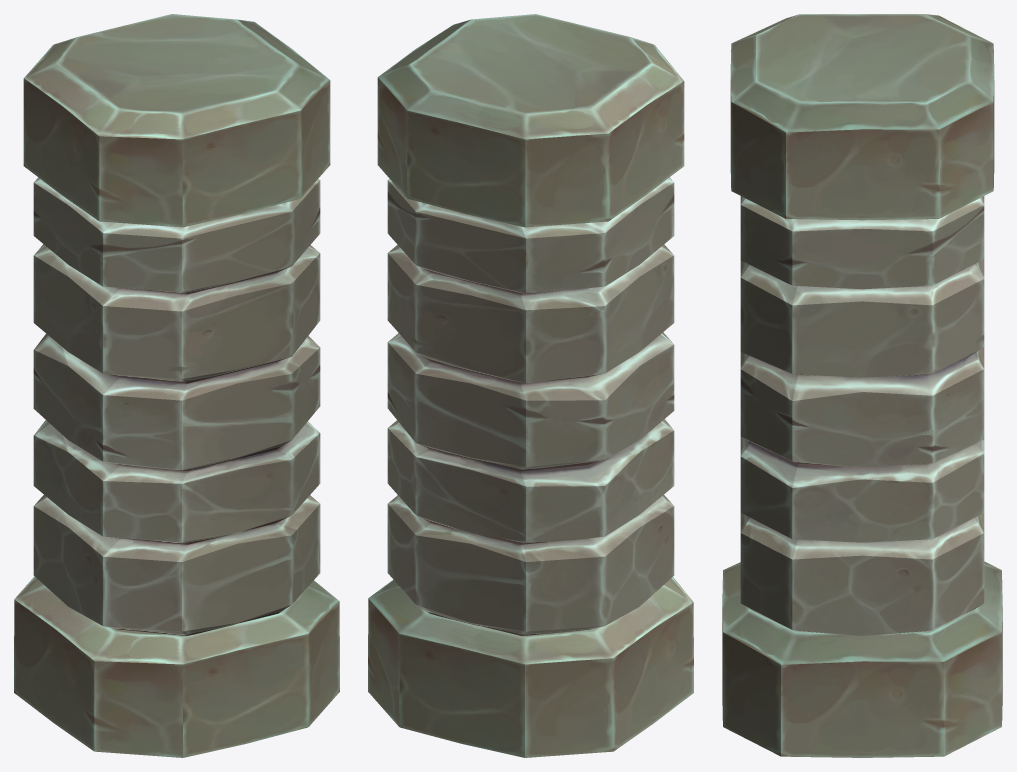
Rendered from Pillar_A.fbx.
3 renders of one model, left to right at view 1: azimuth 30°, elevation 25°; view 2: azimuth 150°, elevation 25°; view 3: azimuth 270°, elevation 25°, orthographic.
Visible parts, largest first — view 1: Pillar_A; view 2: Pillar_A; view 3: Pillar_A.
Part boxes in pixels (box(x1,y1,x2,y2)): Pillar_A: box(14, 14, 339, 757); Pillar_A: box(368, 14, 693, 757); Pillar_A: box(722, 14, 1002, 757).
Bounding box in the file's own units: 857 × 2127 × 836.
